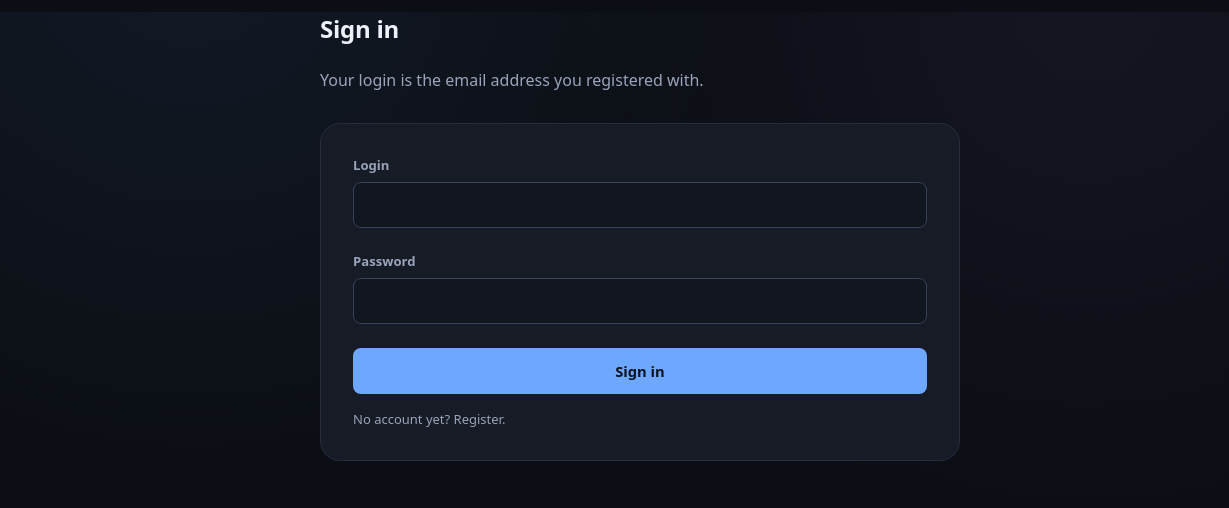
Test: SignInPage › a refused sign-in says so, remembers nothing, and never names which half was wrong
Type "john.doe@example.com" into the field labelled "Login" at (640, 205), box [353,182,927,228]
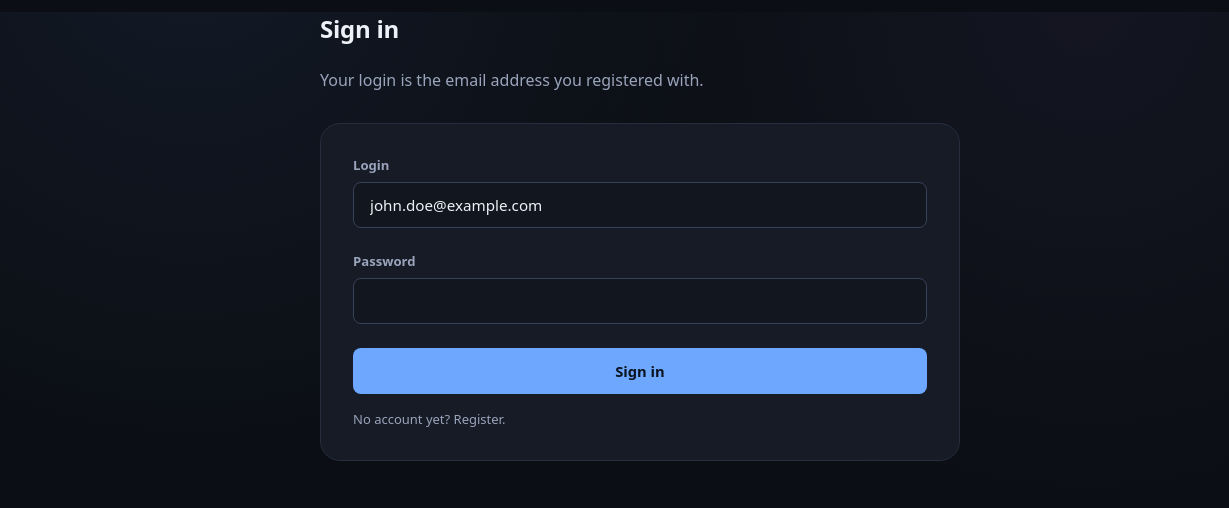
Type "wrong-pass-2026" into the password field labelled "Password" at (640, 301), box [353,278,927,324]
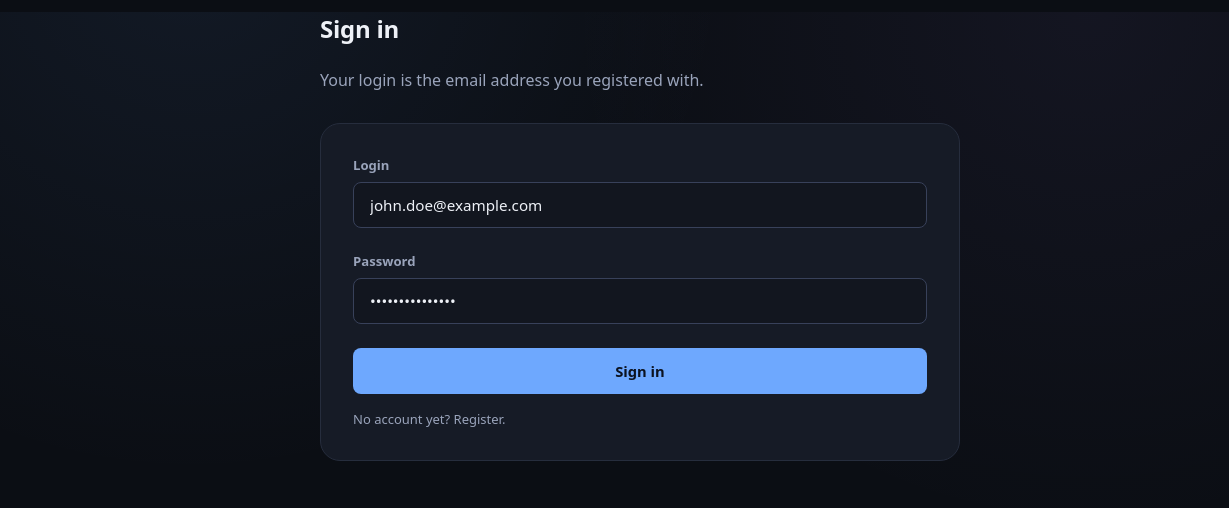
Click the button "Sign in" at (640, 371), box [353,348,927,394]
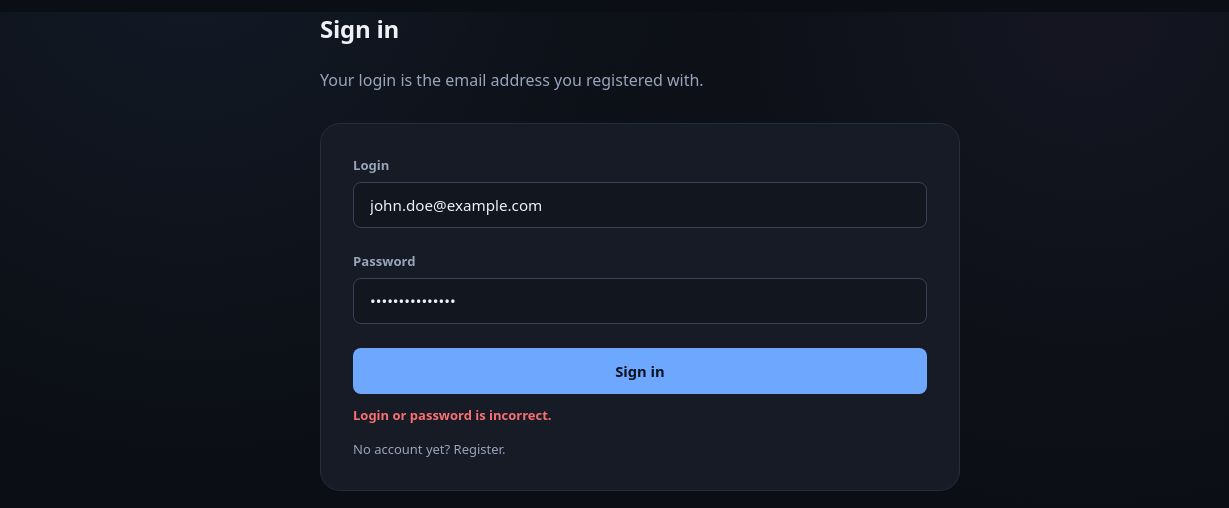
Result: the message reads "Login or password is incorrect." at [353,406,552,424]
